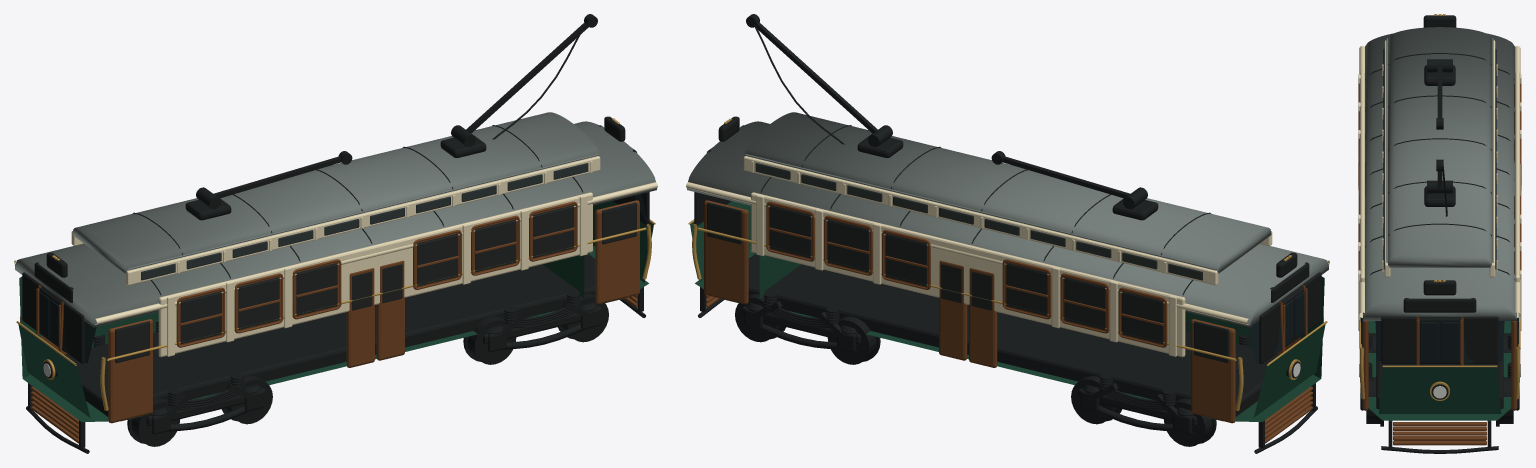
The model's file is w-class-tram.glb.
The picture shows the model from 3 angles, left to right: view 1: azimuth 30°, elevation 25°; view 2: azimuth 150°, elevation 25°; view 3: azimuth 270°, elevation 25°; orthographic projection. The views are drawn at different scales.
Visible parts, largest first — view 1: clerestory cambered cap, continuous underframe, lower cambered saloon roof, cream saloon fascia -1, continuous clerestory band backing -1, end platform door 1 -1, end platform door -1 -1, sloped green dash -1, central saloon lower body, central door leaf -1 -1, central door leaf -1 1, unified vestibule glazing backing -1 (+23 smaller); view 2: clerestory cambered cap, continuous underframe, lower cambered saloon roof, cream saloon fascia 1, continuous clerestory band backing 1, end platform door 1 1, end platform door -1 1, sloped green dash -1, central saloon lower body, central door leaf 1 -1, central door leaf 1 1, unified vestibule glazing backing -1 (+22 smaller); view 3: clerestory cambered cap, lower cambered saloon roof, sloped green dash 1, unified vestibule glazing backing 1, faceted vestibule shell 1, destination case 1, cream saloon fascia -1, cream saloon fascia 1, continuous underframe, continuous clerestory band backing -1, continuous clerestory band backing 1, end folding door glass 1 -1 (+29 smaller).
Boxes of the visible parts, x1=… form: clerestory cambered cap: x1=72, y1=112, x2=599, y2=273; continuous underframe: x1=64, y1=253, x2=595, y2=416; lower cambered saloon roof: x1=15, y1=121, x2=656, y2=327; cream saloon fascia -1: x1=158, y1=192, x2=592, y2=357; continuous clerestory band backing -1: x1=125, y1=156, x2=600, y2=285; end platform door 1 -1: x1=595, y1=200, x2=639, y2=304; end platform door -1 -1: x1=108, y1=319, x2=152, y2=423; sloped green dash -1: x1=18, y1=324, x2=90, y2=417; central saloon lower body: x1=91, y1=255, x2=584, y2=399; central door leaf -1 -1: x1=346, y1=268, x2=374, y2=367; central door leaf -1 1: x1=376, y1=260, x2=404, y2=360; unified vestibule glazing backing -1: x1=22, y1=272, x2=84, y2=363; clerestory cambered cap: x1=744, y1=112, x2=1271, y2=273; continuous underframe: x1=748, y1=253, x2=1279, y2=416; lower cambered saloon roof: x1=687, y1=121, x2=1328, y2=327; cream saloon fascia 1: x1=751, y1=192, x2=1185, y2=357; continuous clerestory band backing 1: x1=743, y1=156, x2=1218, y2=285; end platform door 1 1: x1=704, y1=200, x2=748, y2=304; end platform door -1 1: x1=1191, y1=319, x2=1235, y2=423; sloped green dash -1: x1=1253, y1=324, x2=1325, y2=417; central saloon lower body: x1=759, y1=255, x2=1252, y2=399; central door leaf 1 -1: x1=969, y1=268, x2=997, y2=367; central door leaf 1 1: x1=939, y1=260, x2=967, y2=360; unified vestibule glazing backing -1: x1=1259, y1=272, x2=1321, y2=363; clerestory cambered cap: x1=1388, y1=27, x2=1491, y2=267; lower cambered saloon roof: x1=1363, y1=33, x2=1516, y2=320; sloped green dash 1: x1=1378, y1=367, x2=1501, y2=413; unified vestibule glazing backing 1: x1=1381, y1=316, x2=1498, y2=363; faceted vestibule shell 1: x1=1368, y1=397, x2=1511, y2=420; destination case 1: x1=1403, y1=298, x2=1476, y2=312; cream saloon fascia -1: x1=1360, y1=71, x2=1364, y2=322; cream saloon fascia 1: x1=1515, y1=71, x2=1519, y2=322; continuous underframe: x1=1376, y1=342, x2=1503, y2=408; continuous clerestory band backing -1: x1=1384, y1=40, x2=1390, y2=277; continuous clerestory band backing 1: x1=1489, y1=40, x2=1495, y2=277; end folding door glass 1 -1: x1=1420, y1=322, x2=1438, y2=361.
Size of the model in its own units: 5.01 by 2.4 by 1.26.
